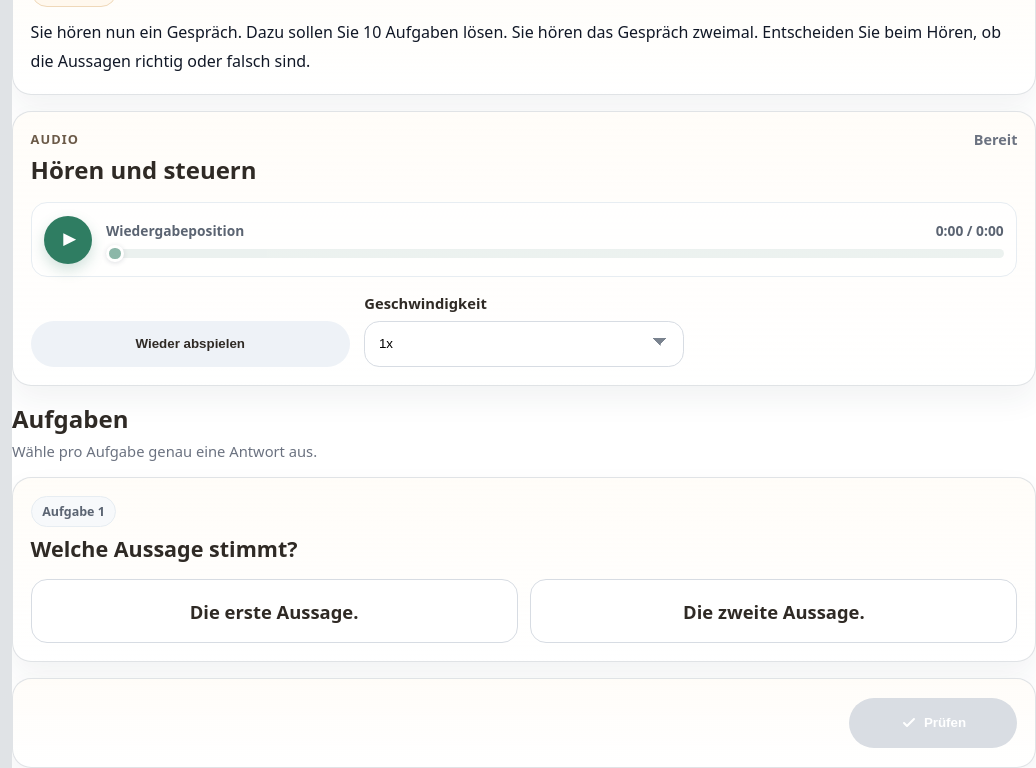
it: listening exercise audio loading › shows TELC C1 Teil 2 option explanations after checking
(page scrolled)
Click the radio button labelled "Die erste Aussage.": (274, 611) x1=31 y1=579 x2=518 y2=643
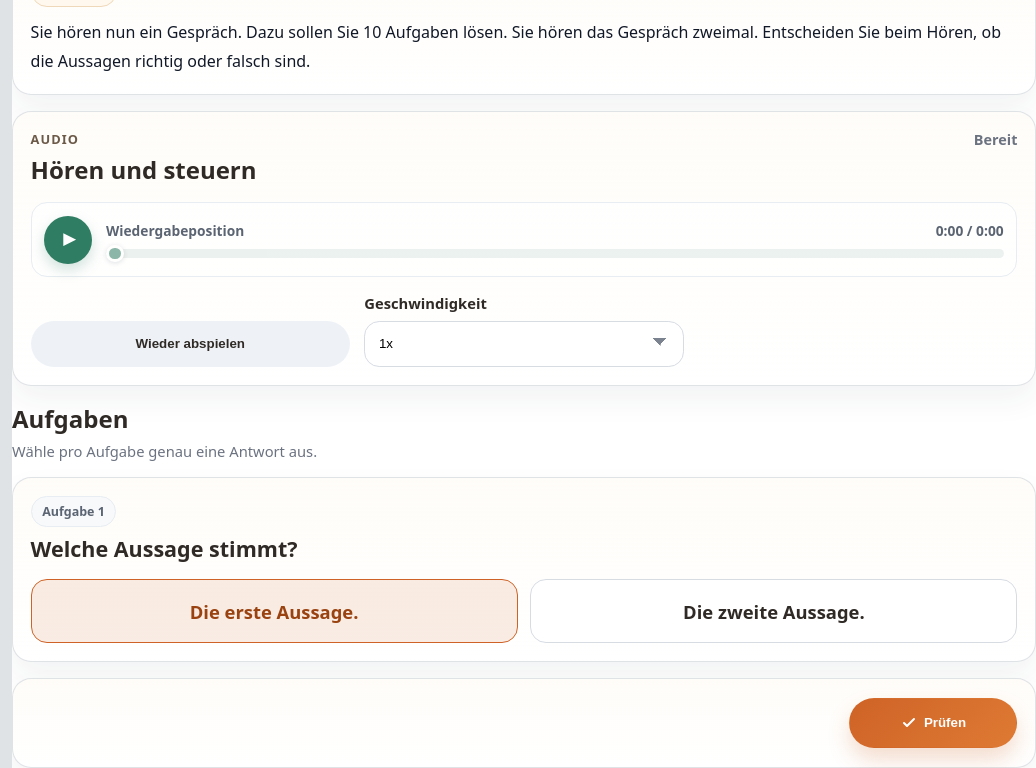
Click the button "Prüfen": (933, 723) x1=849 y1=698 x2=1017 y2=748
(page scrolled)
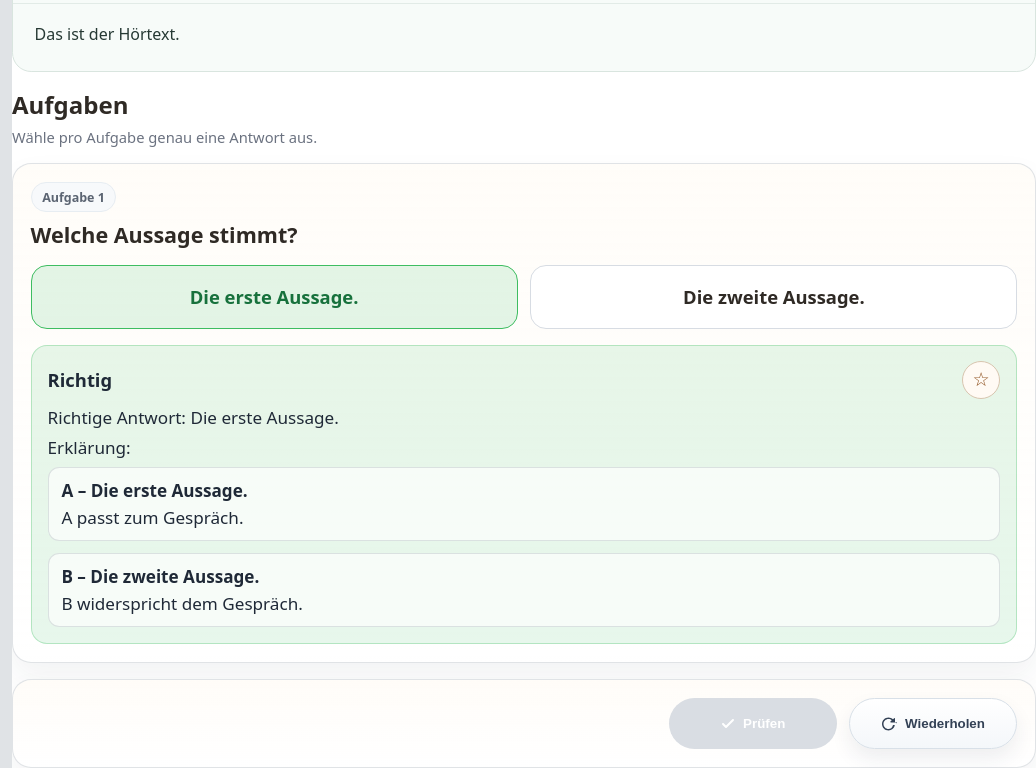
Expected: the text "A passt zum Gespräch." is shown, x1=61 y1=506 x2=244 y2=529
Expected: the text "B widerspricht dem Gespräch." is shown, x1=61 y1=592 x2=303 y2=615
